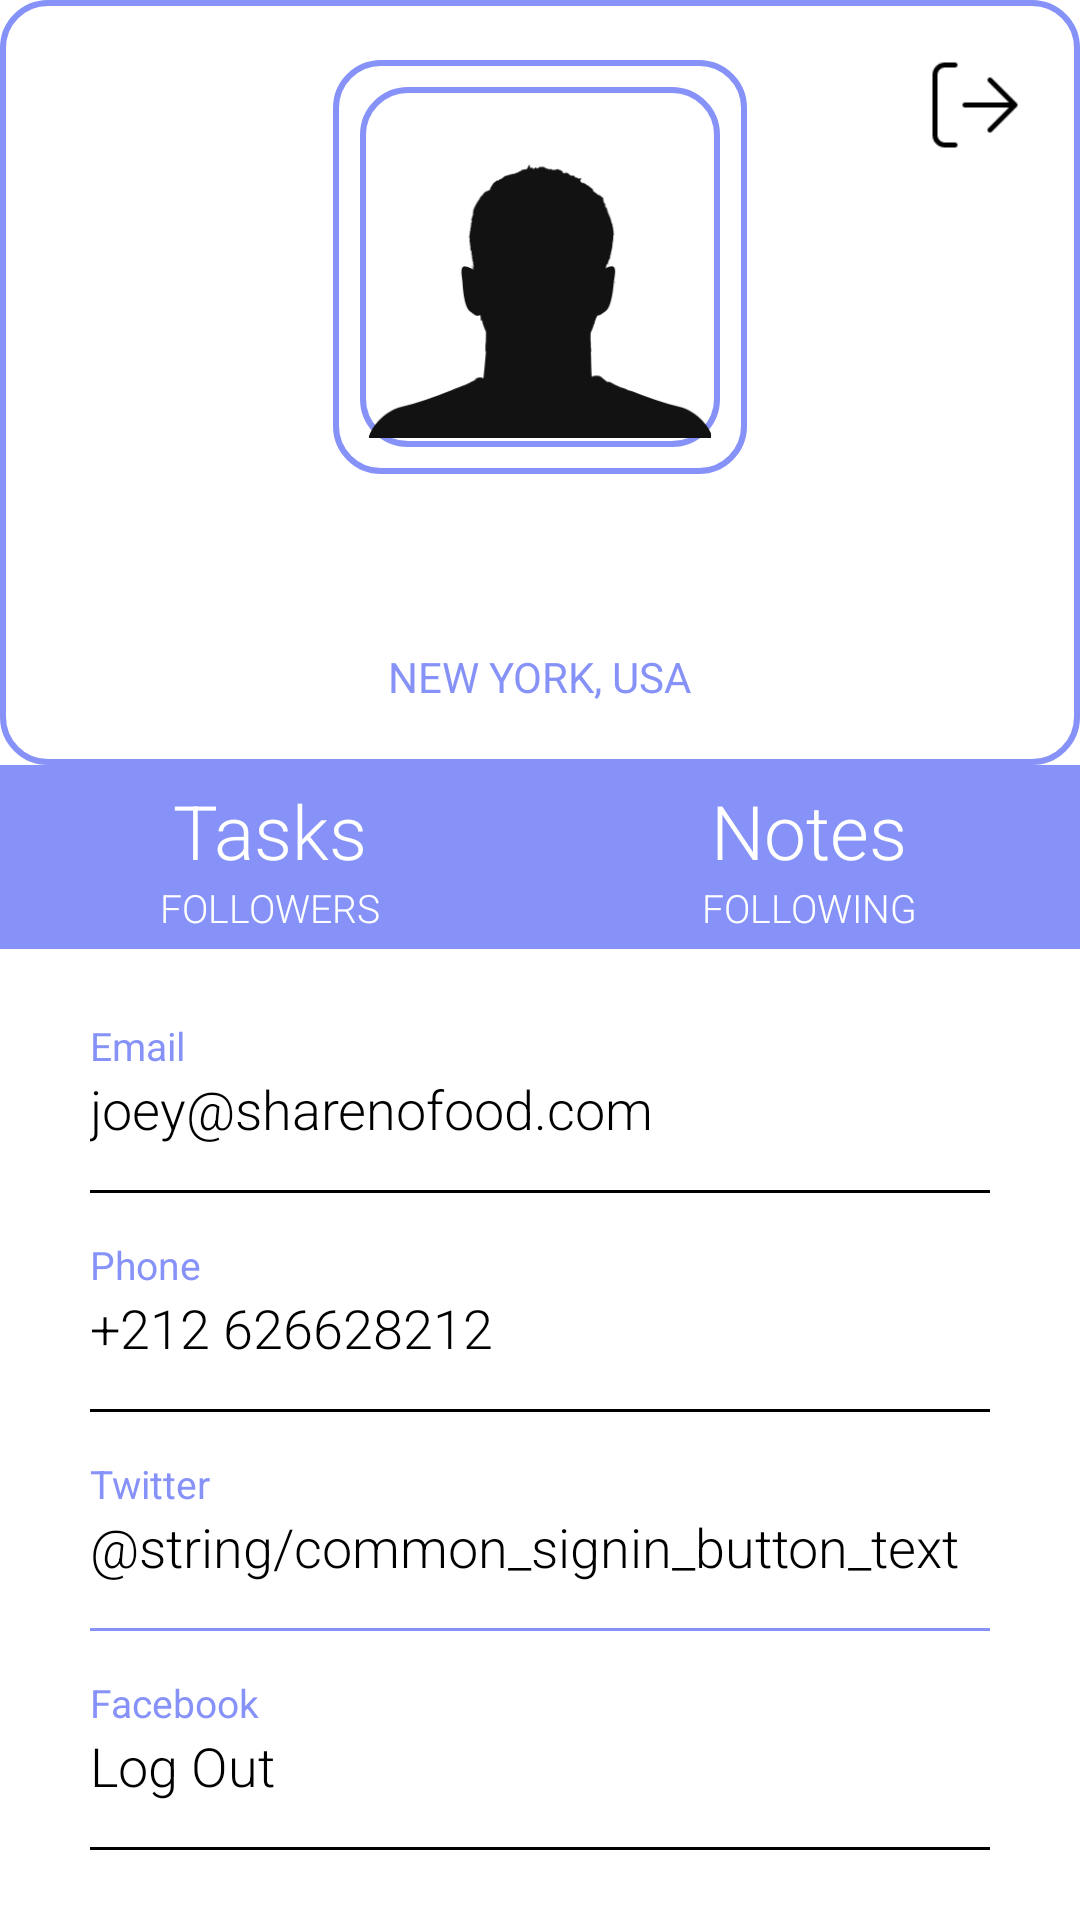

Point at icon controls on the screen. Image size 1080px×1920px, points as point (x, y).
profile: point (540, 267)
